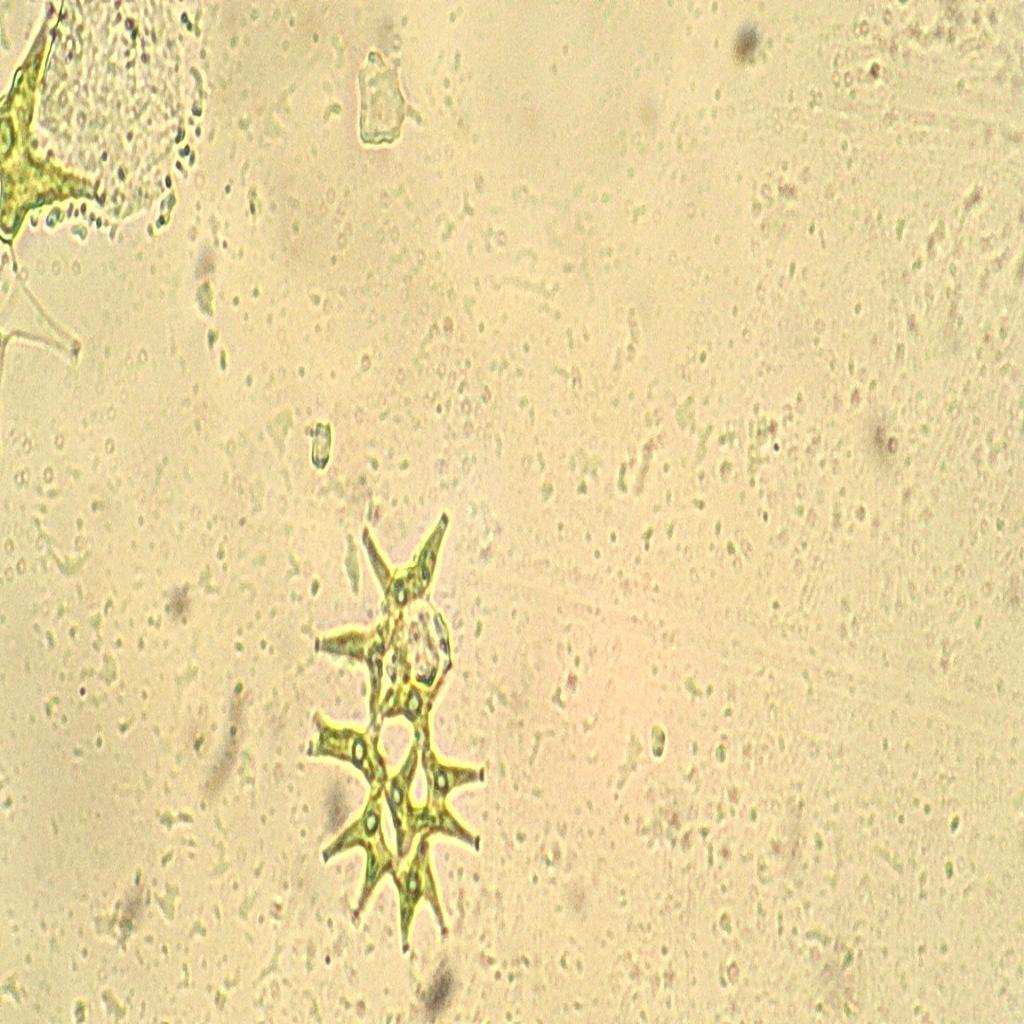Pediastrum_1TH: (297, 478, 507, 986)
